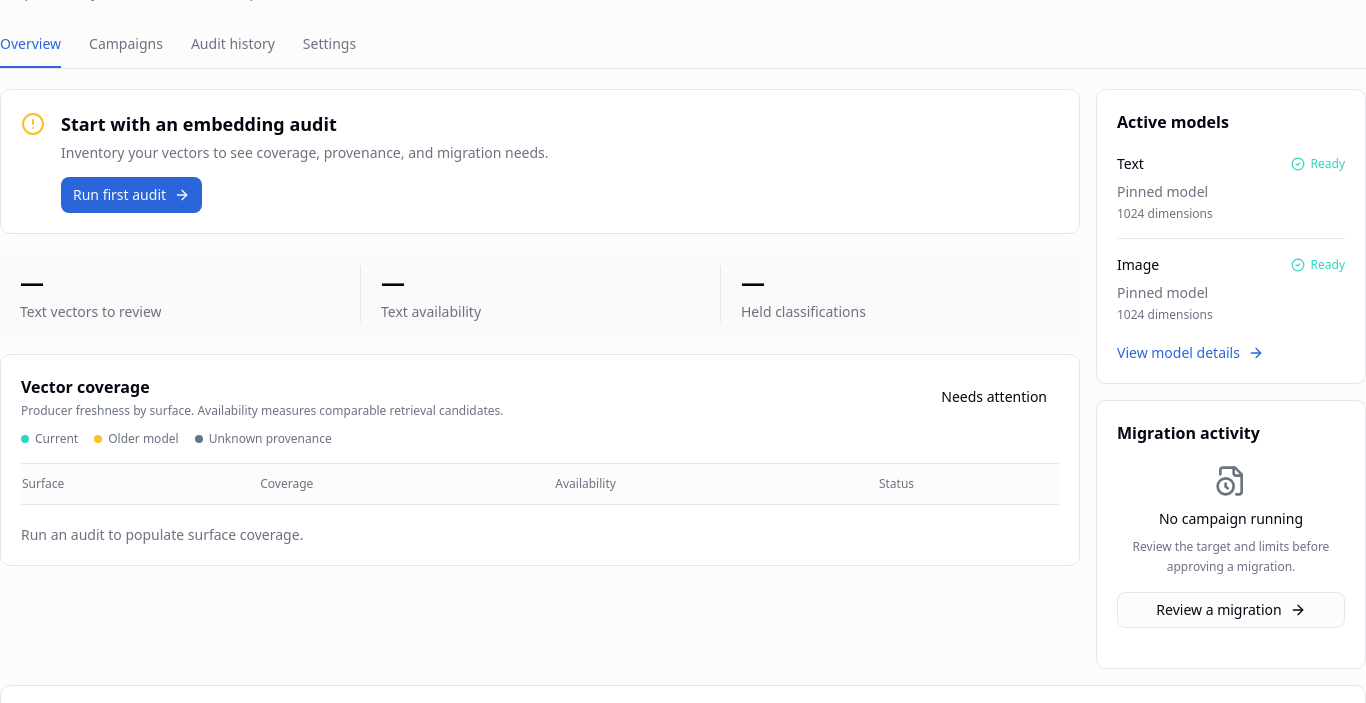
Test: prioritizes audit issues while keeping passing evidence reachable
The image size is (1366, 703).
Click the tab "Audit history": point(233, 45) top-left (191, 22), bottom-right (275, 68)
(page scrolled)
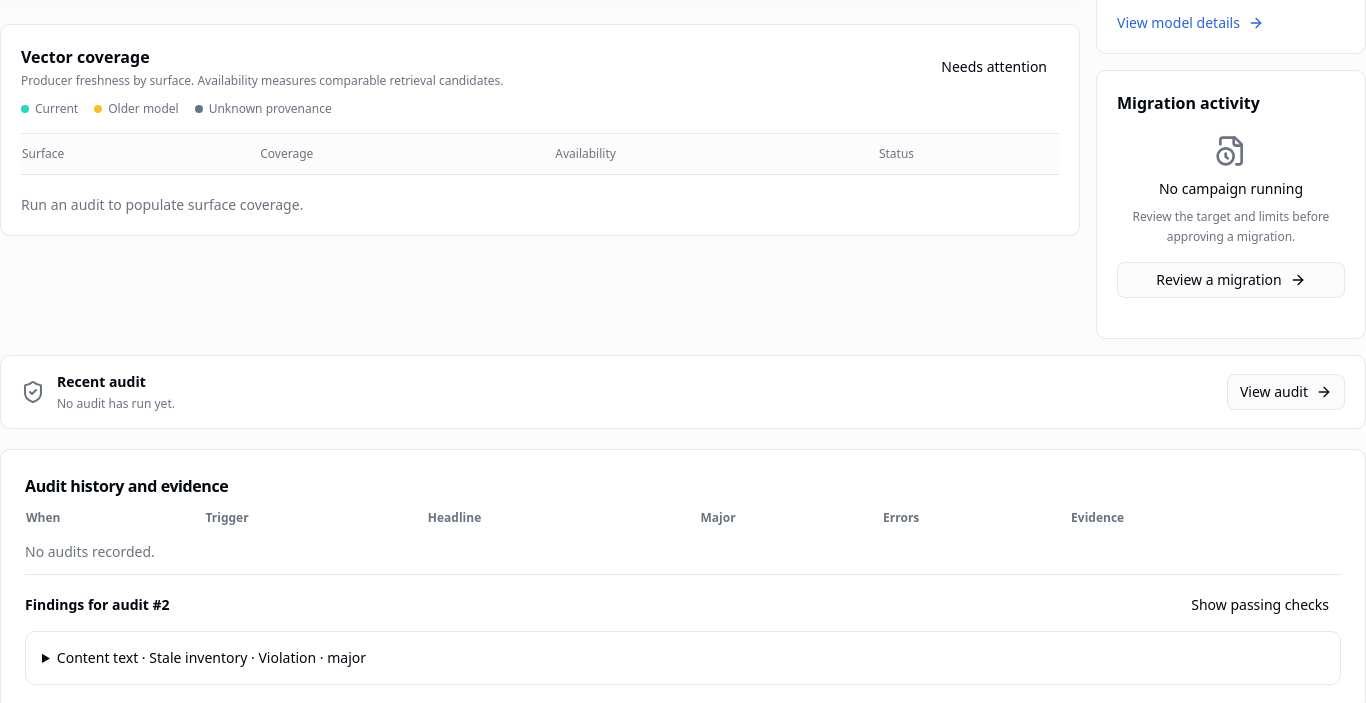
Expected: the text "Content image · Stale inventory · Pass" is not shown
Now the heading "Content text · Stale inventory · Violation · major" is shown, box top-left (57, 648), bottom-right (366, 667)
Click the button "Show passing checks": point(1260, 605) top-left (1179, 587), bottom-right (1341, 623)
(page scrolled)
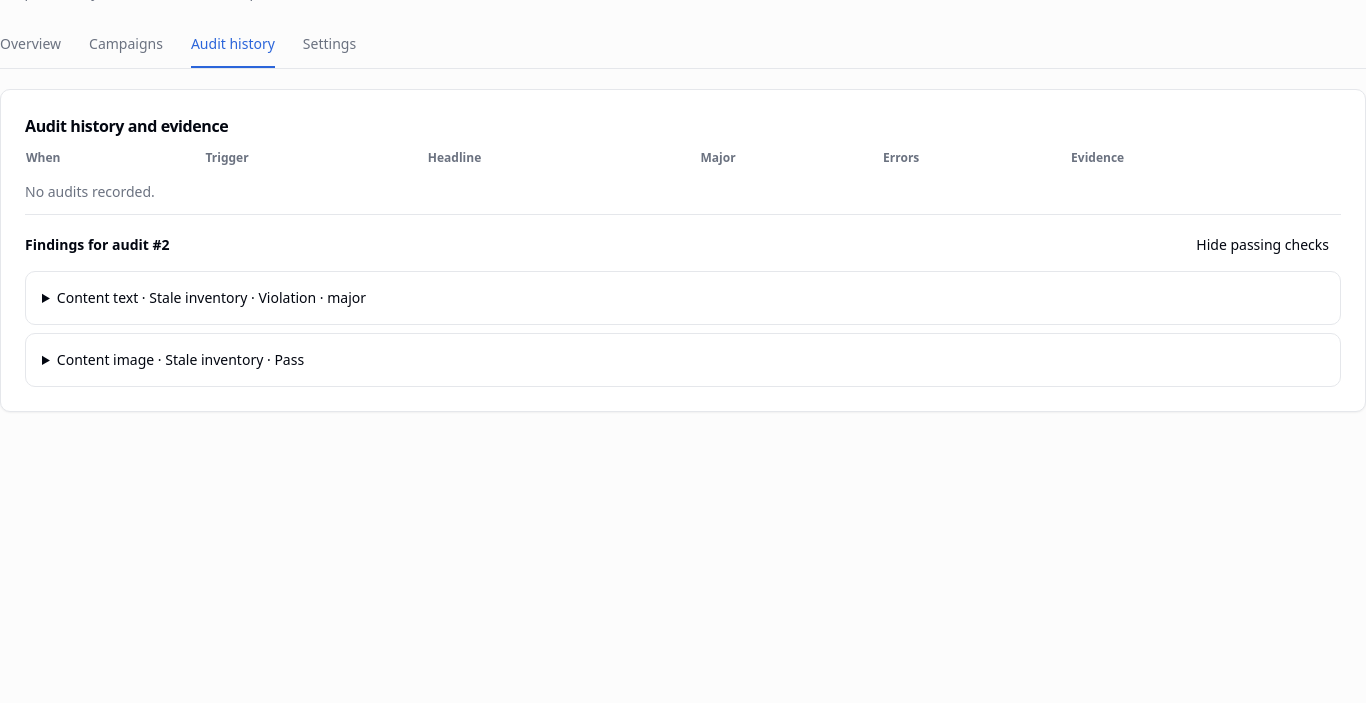
Now the heading "Content image · Stale inventory · Pass" is shown, box top-left (57, 350), bottom-right (304, 369)
